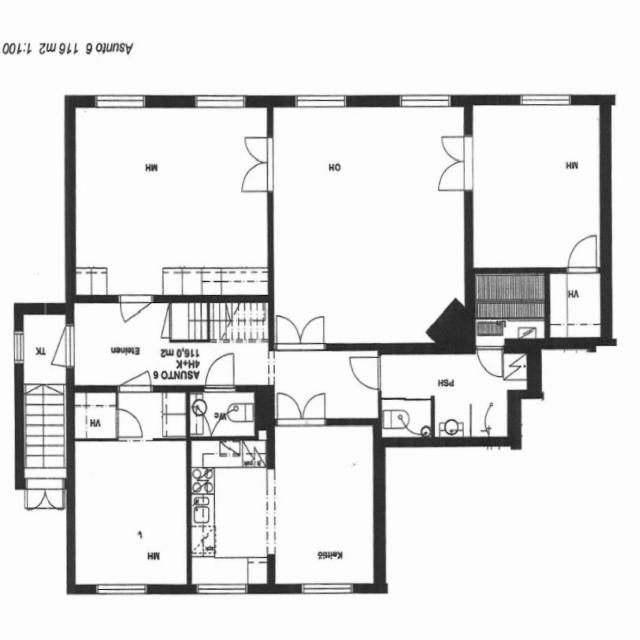door: (33, 326, 75, 366), (120, 294, 152, 338), (120, 349, 150, 392), (205, 352, 233, 392), (140, 304, 172, 338), (568, 235, 596, 272), (440, 161, 472, 190), (242, 162, 274, 191), (352, 358, 382, 388), (300, 315, 324, 350), (276, 315, 300, 350), (301, 391, 325, 425), (477, 346, 502, 378), (278, 391, 301, 425), (443, 137, 473, 162), (115, 409, 142, 436), (246, 138, 274, 162), (45, 478, 63, 509), (27, 478, 45, 509)
